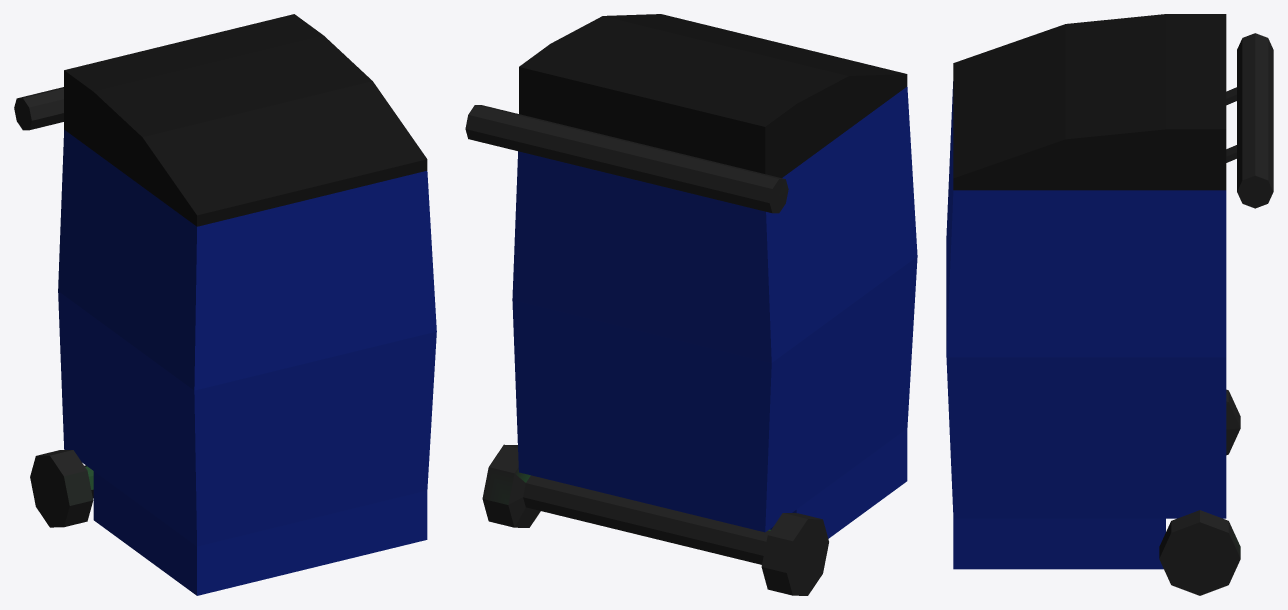
File: SM_trashcan_blue.FBX
The picture shows the model from 3 angles, left to right: view 1: azimuth 30°, elevation 25°; view 2: azimuth 150°, elevation 25°; view 3: azimuth 270°, elevation 25°; orthographic projection. The views are drawn at different scales.
Parts seen in each view (by area): view 1: trashcan; view 2: trashcan; view 3: trashcan.
Part boxes in pixels (box(x1,y1,x2,y2)): trashcan: box(14, 14, 436, 595); trashcan: box(465, 14, 917, 595); trashcan: box(946, 14, 1273, 595).
Bounding box in the file's own units: 55.6 × 82.4 × 53.91.
